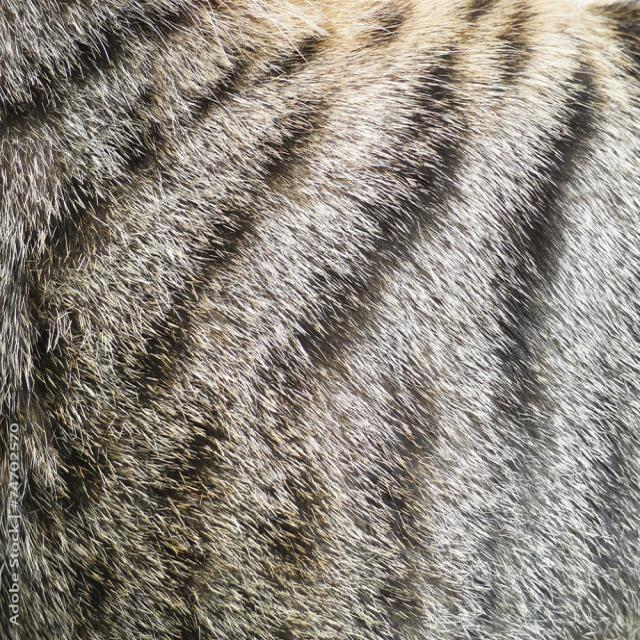Healthy skin: (382, 18, 626, 584), (1, 11, 365, 338)
